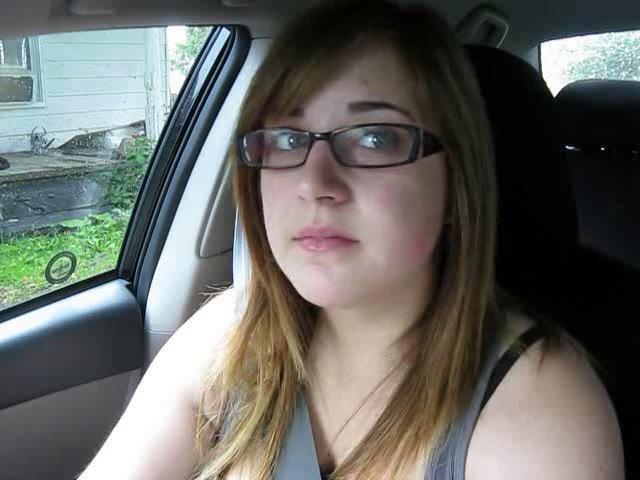no_yawn: (273, 213, 376, 267)
open_eyeL: (249, 119, 321, 167)
open_eyeR: (335, 117, 419, 166)
